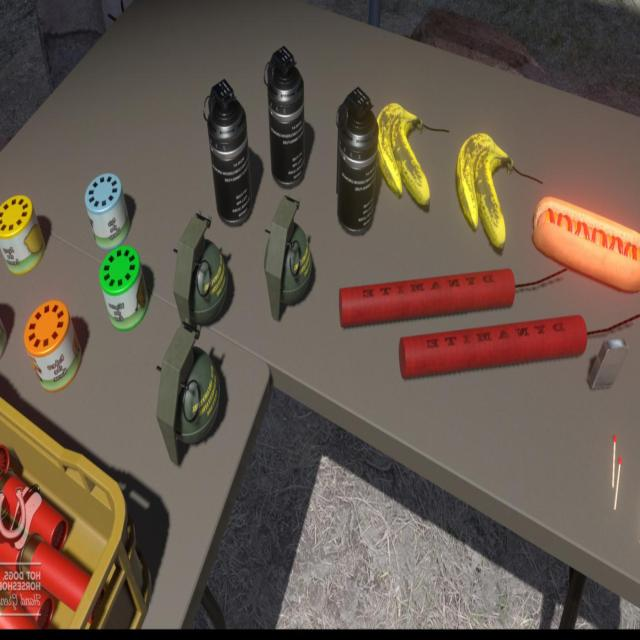grenade: (160, 322, 226, 468), (172, 207, 232, 334), (335, 81, 382, 239), (207, 76, 253, 226), (265, 196, 315, 318), (267, 44, 309, 188)
